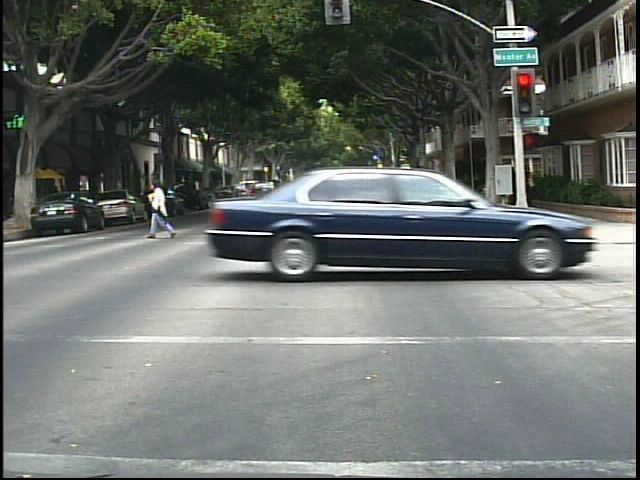person: (140, 172, 182, 243), (372, 172, 397, 217), (431, 168, 446, 190)
